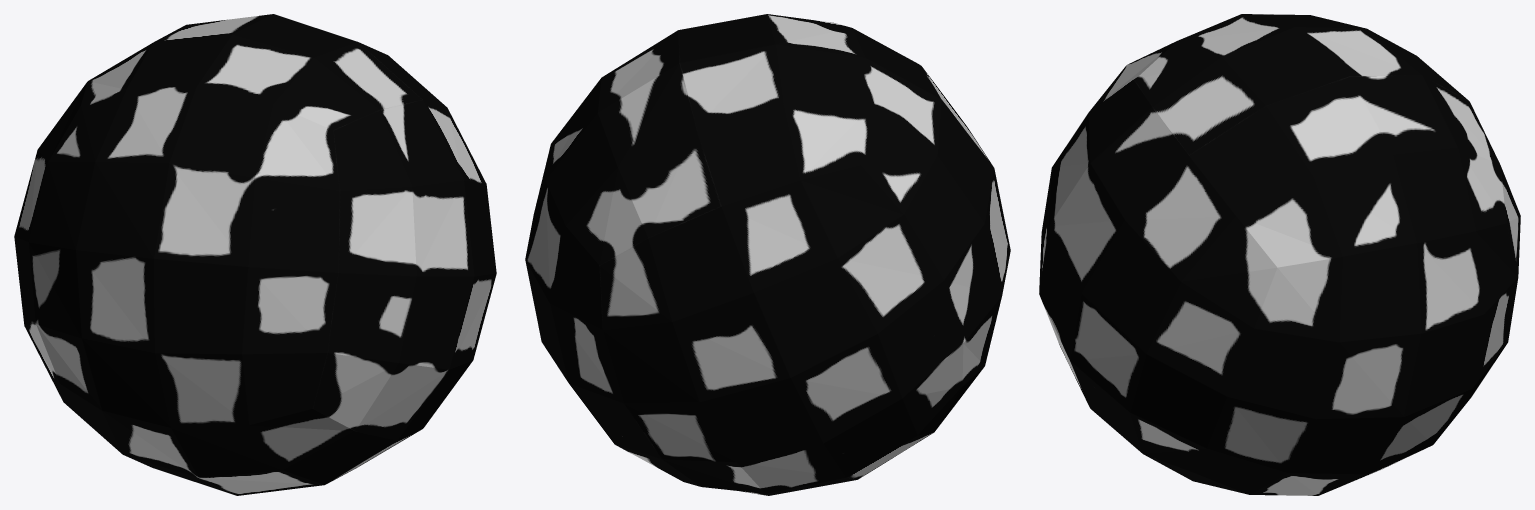
File: ball.glb
3 renders of one model, left to right at view 1: azimuth 30°, elevation 25°; view 2: azimuth 150°, elevation 25°; view 3: azimuth 270°, elevation 25°, orthographic.
Parts seen in each view (by area): view 1: node_id4; view 2: node_id4; view 3: node_id4.
Part boxes in pixels (x1,y1,x2,y2): node_id4: (14, 14, 496, 495); node_id4: (525, 14, 1010, 495); node_id4: (1039, 14, 1520, 495).
Size of the model in its own units: 0.5049 by 0.5096 by 0.5047.
1 material, 1 textured.
